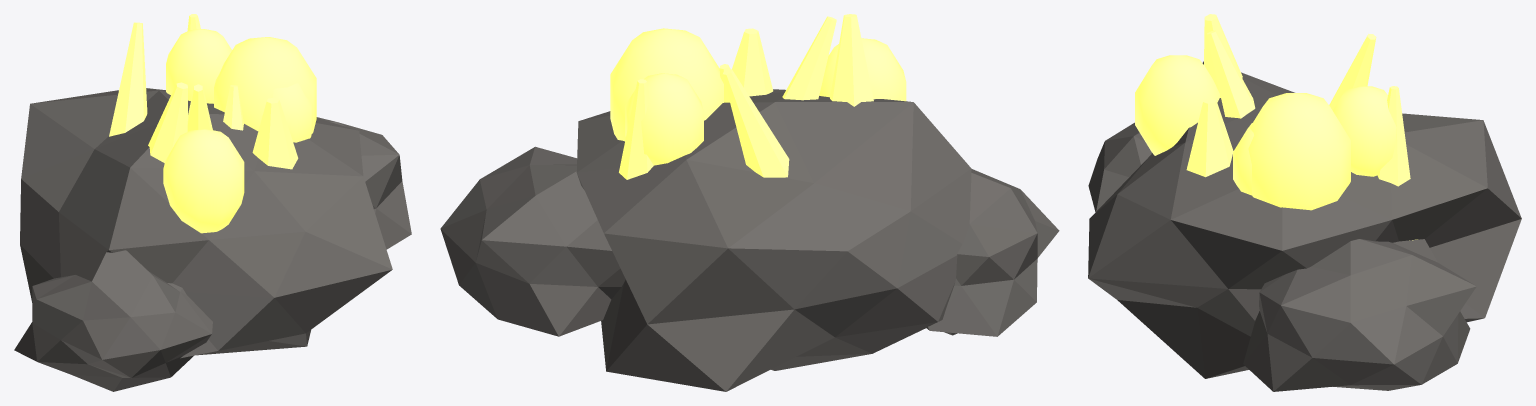
The model's file is ore-resin.glb.
3 renders of one model, left to right at view 1: azimuth 30°, elevation 25°; view 2: azimuth 150°, elevation 25°; view 3: azimuth 270°, elevation 25°, orthographic. The views are drawn at different scales.
Visible parts, largest first — view 1: ore-resin; view 2: ore-resin; view 3: ore-resin.
Part boxes in pixels (x1,y1,x2,y2): ore-resin: (14, 14, 411, 391); ore-resin: (440, 14, 1059, 391); ore-resin: (1088, 14, 1521, 391).
Bounding box in the file's own units: 1.92 × 1.28 × 1.58.
